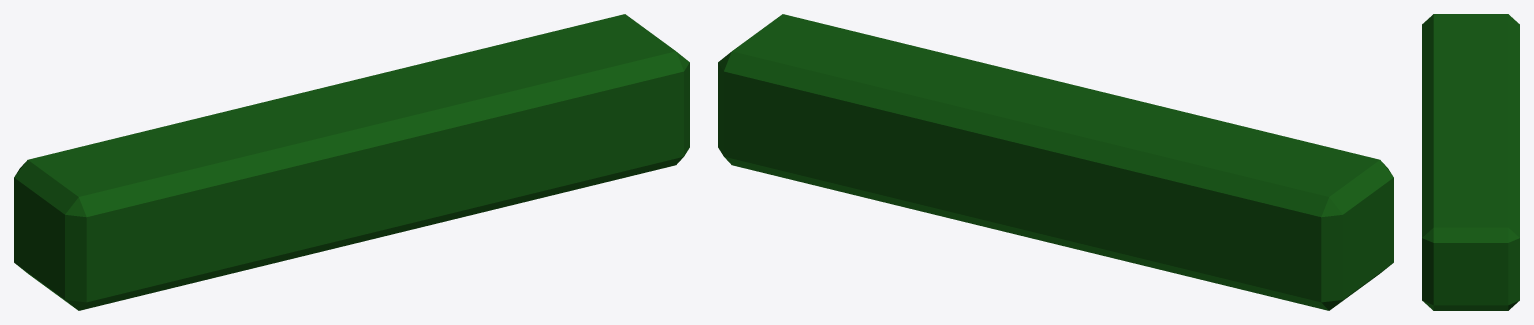
The model's file is Bush.FBX.
3 views of the same model, side by side, from view 1: azimuth 30°, elevation 25°; view 2: azimuth 150°, elevation 25°; view 3: azimuth 270°, elevation 25° (orthographic). The views are drawn at different scales.
Visible parts, largest first — view 1: Bush; view 2: Bush; view 3: Bush.
Boxes of the visible parts, box(x1,y1,x2,y2) form: Bush: box(14, 14, 689, 310); Bush: box(718, 14, 1393, 310); Bush: box(1422, 14, 1519, 310).
Bounding box in the file's own units: 15.99 × 2.79 × 2.96.
